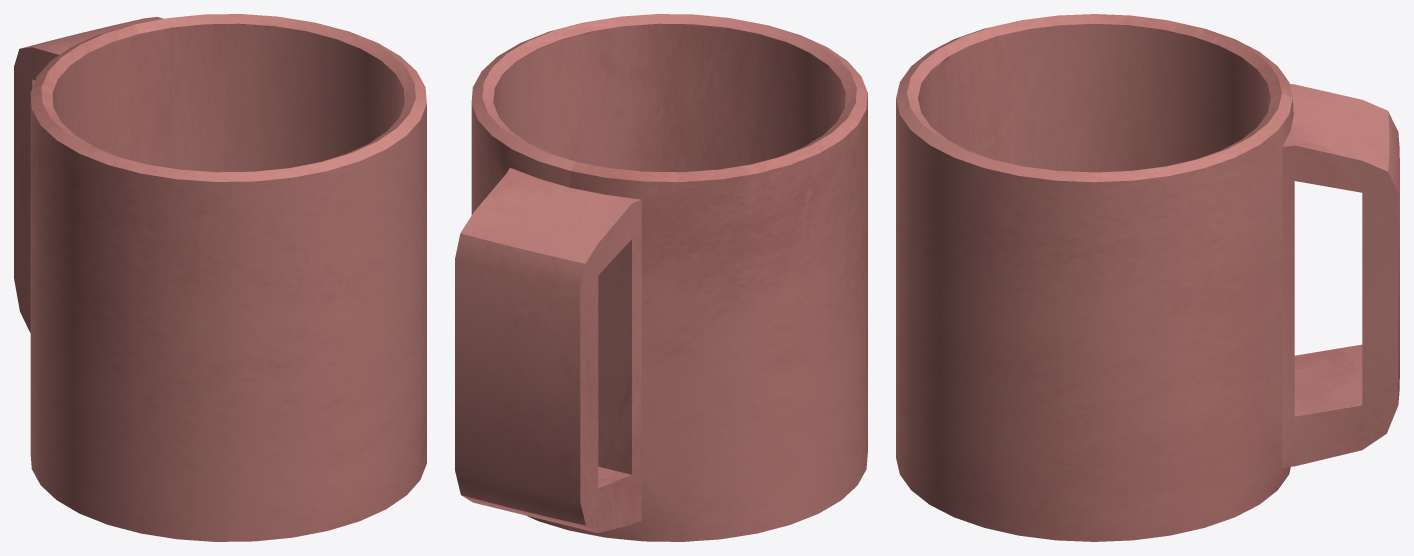
File: cup.fbx
3 renders of one model, left to right at view 1: azimuth 30°, elevation 25°; view 2: azimuth 150°, elevation 25°; view 3: azimuth 270°, elevation 25°, orthographic.
Visible parts, largest first — view 1: Cylinder; view 2: Cylinder; view 3: Cylinder.
Part boxes in pixels (<box>): Cylinder: <box>14,14,426,541</box>; Cylinder: <box>455,14,867,541</box>; Cylinder: <box>896,14,1399,541</box>.
Size of the model in its own units: 200 by 203 by 254.
1 material, 1 textured.
